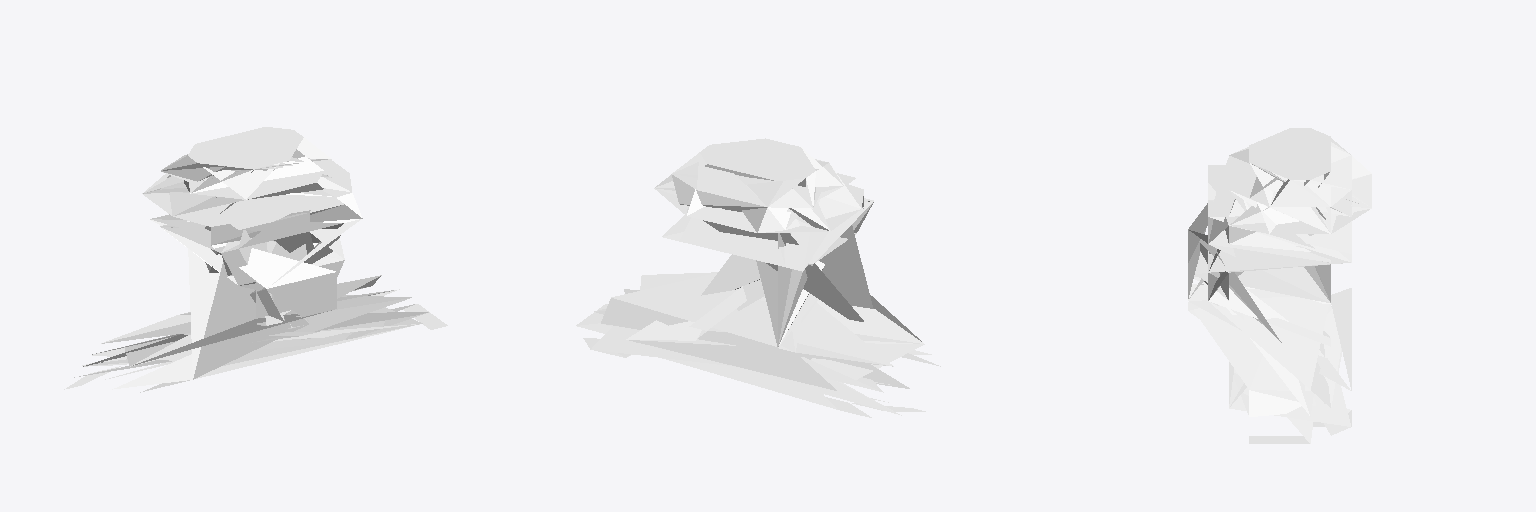
Rendered from FleshGolem.obj.
3 renders of one model, left to right at view 1: azimuth 30°, elevation 25°; view 2: azimuth 150°, elevation 25°; view 3: azimuth 270°, elevation 25°, orthographic.
Size of the model in its own units: 20 by 11 by 9.